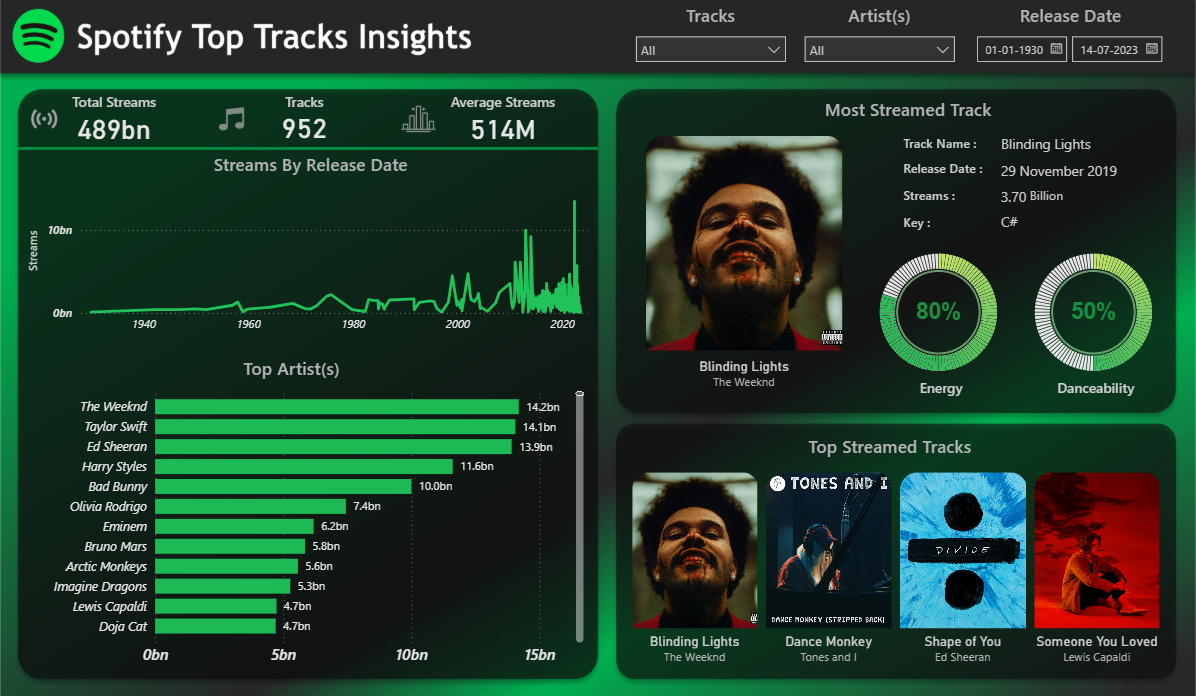

The page's visual inventory and layout, read from the dashboard file:
{"tool":"powerbi","page":{"name":"Spotify Main Page","canvas":[1286,750],"ordinal":0},"visuals":[{"type":"card","title":"Total Streams","fields":{"Values":["Sum(Spotify Dataset.streams)"]},"box":[56.2,102.8,142.1,55.3],"z":0},{"type":"card","title":"Tracks","fields":{"Values":["CountNonNull(Spotify Dataset.track_name)"]},"box":[258.8,102.5,142.5,55],"z":1000},{"type":"card","title":"Average Streams","fields":{"Values":["Avg(Spotify Dataset.streams)"]},"box":[470.7,102.8,142.1,55.3],"z":2000},{"type":"lineChart","title":"Streams By Release Date","fields":{"Category":["Calendar.Date"],"Y":["Sum(Spotify Dataset.streams)"]},"box":[30,166.9,612.3,201.5],"z":3000},{"type":"barChart","title":"Top Artist(s)","fields":{"Y":["Sum(Spotify Dataset.streams)"],"Category":["Spotify Dataset.artist(s)_name"]},"box":[0,384.2,632.9,340.8],"z":4000},{"type":"textbox","box":[879.5,102.6,201.3,38.5],"z":5000},{"type":"multiRowCard","fields":{"Values":["Spotify Dataset.track_name","Calendar.Date","Spotify Dataset.Streams (B Num)","Spotify Dataset.key"]},"box":[1067.9,142.9,182.1,117.9],"z":6000},{"type":"textbox","box":[963.8,169.6,120.5,30.8],"z":7000},{"type":"textbox","box":[963.8,198.6,120.5,30.8],"z":8000},{"type":"deneb7E15AEF80B9E4D4F8E12924291ECE89A","fields":{"dataset":["Spotify Dataset.TopSongEnergy"]},"box":[932.1,267.9,165.4,151.3],"z":9000},{"type":"deneb7E15AEF80B9E4D4F8E12924291ECE89A","fields":{"dataset":["Spotify Dataset.TopSongDanceability"]},"box":[1097.4,267.9,165.4,151.3],"z":10000},{"type":"textbox","box":[964.1,142.3,120.5,30.8],"z":11000},{"type":"textbox","box":[964.1,226,103.8,30.8],"z":12000},{"type":"textbox","box":[981,402.6,57.7,34.6],"z":13000},{"type":"textbox","box":[1128,402,102.6,34.6],"z":14000},{"type":"advancedSlicerVisual","fields":{"Values":["Spotify Dataset.track_name"]},"box":[673.7,500,576.3,250],"z":15000},{"type":"textbox","box":[863.2,462,201.3,38.2],"z":16000},{"type":"slicer","title":"Tracks","fields":{"Values":["Spotify Dataset.track_name"]},"box":[673.7,7.9,180.3,73.7],"z":17000},{"type":"slicer","title":"Artist(s)","fields":{"Values":["Spotify Dataset.artist(s)_name"]},"box":[853.9,7.9,180.3,73.7],"z":18000},{"type":"slicer","title":"Release Date","fields":{"Values":["Calendar.Date"]},"box":[1034.2,7.9,225,73.7],"z":19000},{"type":"textbox","box":[1099,198.7,59.2,30.3],"z":20000},{"type":"advancedSlicerVisual","fields":{"Values":["Spotify Dataset.track_name"]},"box":[687.5,141.2,222.5,295],"z":21000}]}

Visuals, with their boxes in screenshot pixels (x1, y1, x2, y2), scaled from the page's 1286x750 canvas onto the 1196x696 screenshot:
"Total Streams" card: bbox=(52, 95, 184, 147)
"Tracks" card: bbox=(241, 95, 373, 146)
"Average Streams" card: bbox=(438, 95, 570, 147)
"Streams By Release Date" lineChart: bbox=(28, 155, 597, 342)
"Top Artist(s)" barChart: bbox=(0, 357, 589, 673)
textbox: bbox=(818, 95, 1005, 131)
multiRowCard - Spotify Dataset.track_name x Calendar.Date: bbox=(993, 133, 1163, 242)
textbox: bbox=(896, 157, 1008, 186)
textbox: bbox=(896, 184, 1008, 213)
deneb7E15AEF80B9E4D4F8E12924291ECE89A - Spotify Dataset.TopSongEnergy: bbox=(867, 249, 1021, 389)
deneb7E15AEF80B9E4D4F8E12924291ECE89A - Spotify Dataset.TopSongDanceability: bbox=(1021, 249, 1174, 389)
textbox: bbox=(897, 132, 1009, 161)
textbox: bbox=(897, 210, 993, 238)
textbox: bbox=(912, 374, 966, 406)
textbox: bbox=(1049, 373, 1144, 405)
advancedSlicerVisual - Spotify Dataset.track_name: bbox=(627, 464, 1163, 695)
textbox: bbox=(803, 429, 990, 464)
"Tracks" slicer: bbox=(627, 7, 794, 76)
"Artist(s)" slicer: bbox=(794, 7, 962, 76)
"Release Date" slicer: bbox=(962, 7, 1171, 76)
textbox: bbox=(1022, 184, 1077, 213)
advancedSlicerVisual - Spotify Dataset.track_name: bbox=(639, 131, 846, 405)
